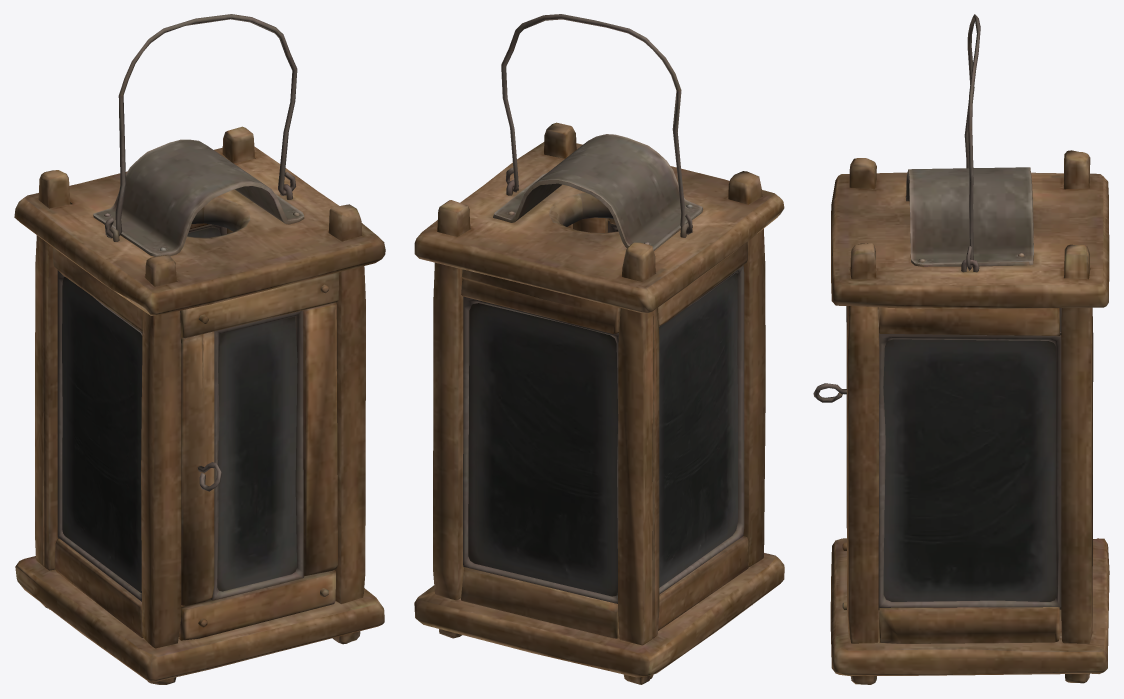
File: farol.glb
The picture shows the model from 3 angles, left to right: view 1: azimuth 30°, elevation 25°; view 2: azimuth 150°, elevation 25°; view 3: azimuth 270°, elevation 25°; orthographic projection.
Visible parts, largest first — view 1: wooden_lantern_01; view 2: wooden_lantern_01; view 3: wooden_lantern_01.
Boxes of the visible parts, bbox=[...] form: wooden_lantern_01: bbox=[14, 14, 385, 684]; wooden_lantern_01: bbox=[414, 14, 784, 684]; wooden_lantern_01: bbox=[813, 14, 1109, 684].
Size of the model in its own units: 0.2211 by 0.5296 by 0.2347.
2 materials, 2 textured.
